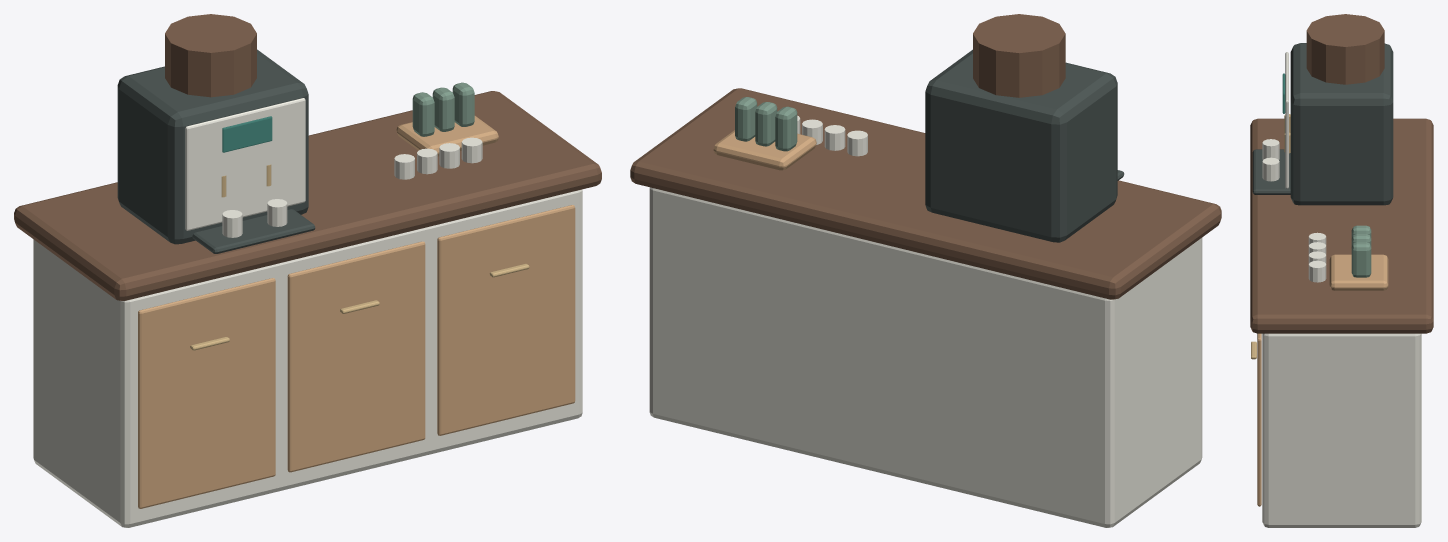
The model's file is coffee-station.glb.
3 views of the same model, side by side, from view 1: azimuth 30°, elevation 25°; view 2: azimuth 150°, elevation 25°; view 3: azimuth 270°, elevation 25° (orthographic). The views are drawn at different scales.
Visible parts, largest first — view 1: coffee-station Warm ash wood, coffee-station Warm porcelain, coffee-station Walnut accents, coffee-station Graphite powder coat, coffee-station Sage upholstery, Coffee display, coffee-station Brushed brass; view 2: coffee-station Warm porcelain, coffee-station Walnut accents, coffee-station Graphite powder coat, coffee-station Sage upholstery, coffee-station Warm ash wood; view 3: coffee-station Warm porcelain, coffee-station Walnut accents, coffee-station Graphite powder coat, coffee-station Warm ash wood, coffee-station Sage upholstery, coffee-station Brushed brass.
Part boxes in pixels (left/top/right/bottom): coffee-station Warm ash wood: left=138, top=116, right=575, bottom=508; coffee-station Warm porcelain: left=33, top=98, right=582, bottom=527; coffee-station Walnut accents: left=14, top=14, right=601, bottom=300; coffee-station Graphite powder coat: left=117, top=49, right=315, bottom=253; coffee-station Sage upholstery: left=412, top=82, right=474, bottom=136; Coffee display: left=222, top=116, right=272, bottom=152; coffee-station Brushed brass: left=190, top=164, right=529, bottom=350; coffee-station Warm porcelain: left=649, top=115, right=1202, bottom=527; coffee-station Walnut accents: left=630, top=14, right=1221, bottom=299; coffee-station Graphite powder coat: left=925, top=49, right=1124, bottom=242; coffee-station Sage upholstery: left=735, top=97, right=797, bottom=151; coffee-station Warm ash wood: left=713, top=130, right=816, bottom=170; coffee-station Warm porcelain: left=1262, top=52, right=1421, bottom=527; coffee-station Walnut accents: left=1250, top=14, right=1433, bottom=333; coffee-station Graphite powder coat: left=1252, top=43, right=1393, bottom=205; coffee-station Warm ash wood: left=1257, top=254, right=1388, bottom=506; coffee-station Sage upholstery: left=1351, top=225, right=1371, bottom=277; coffee-station Brushed brass: left=1251, top=114, right=1290, bottom=359.
Bounding box in the file's own units: 1.95 × 1.64 × 0.75.
